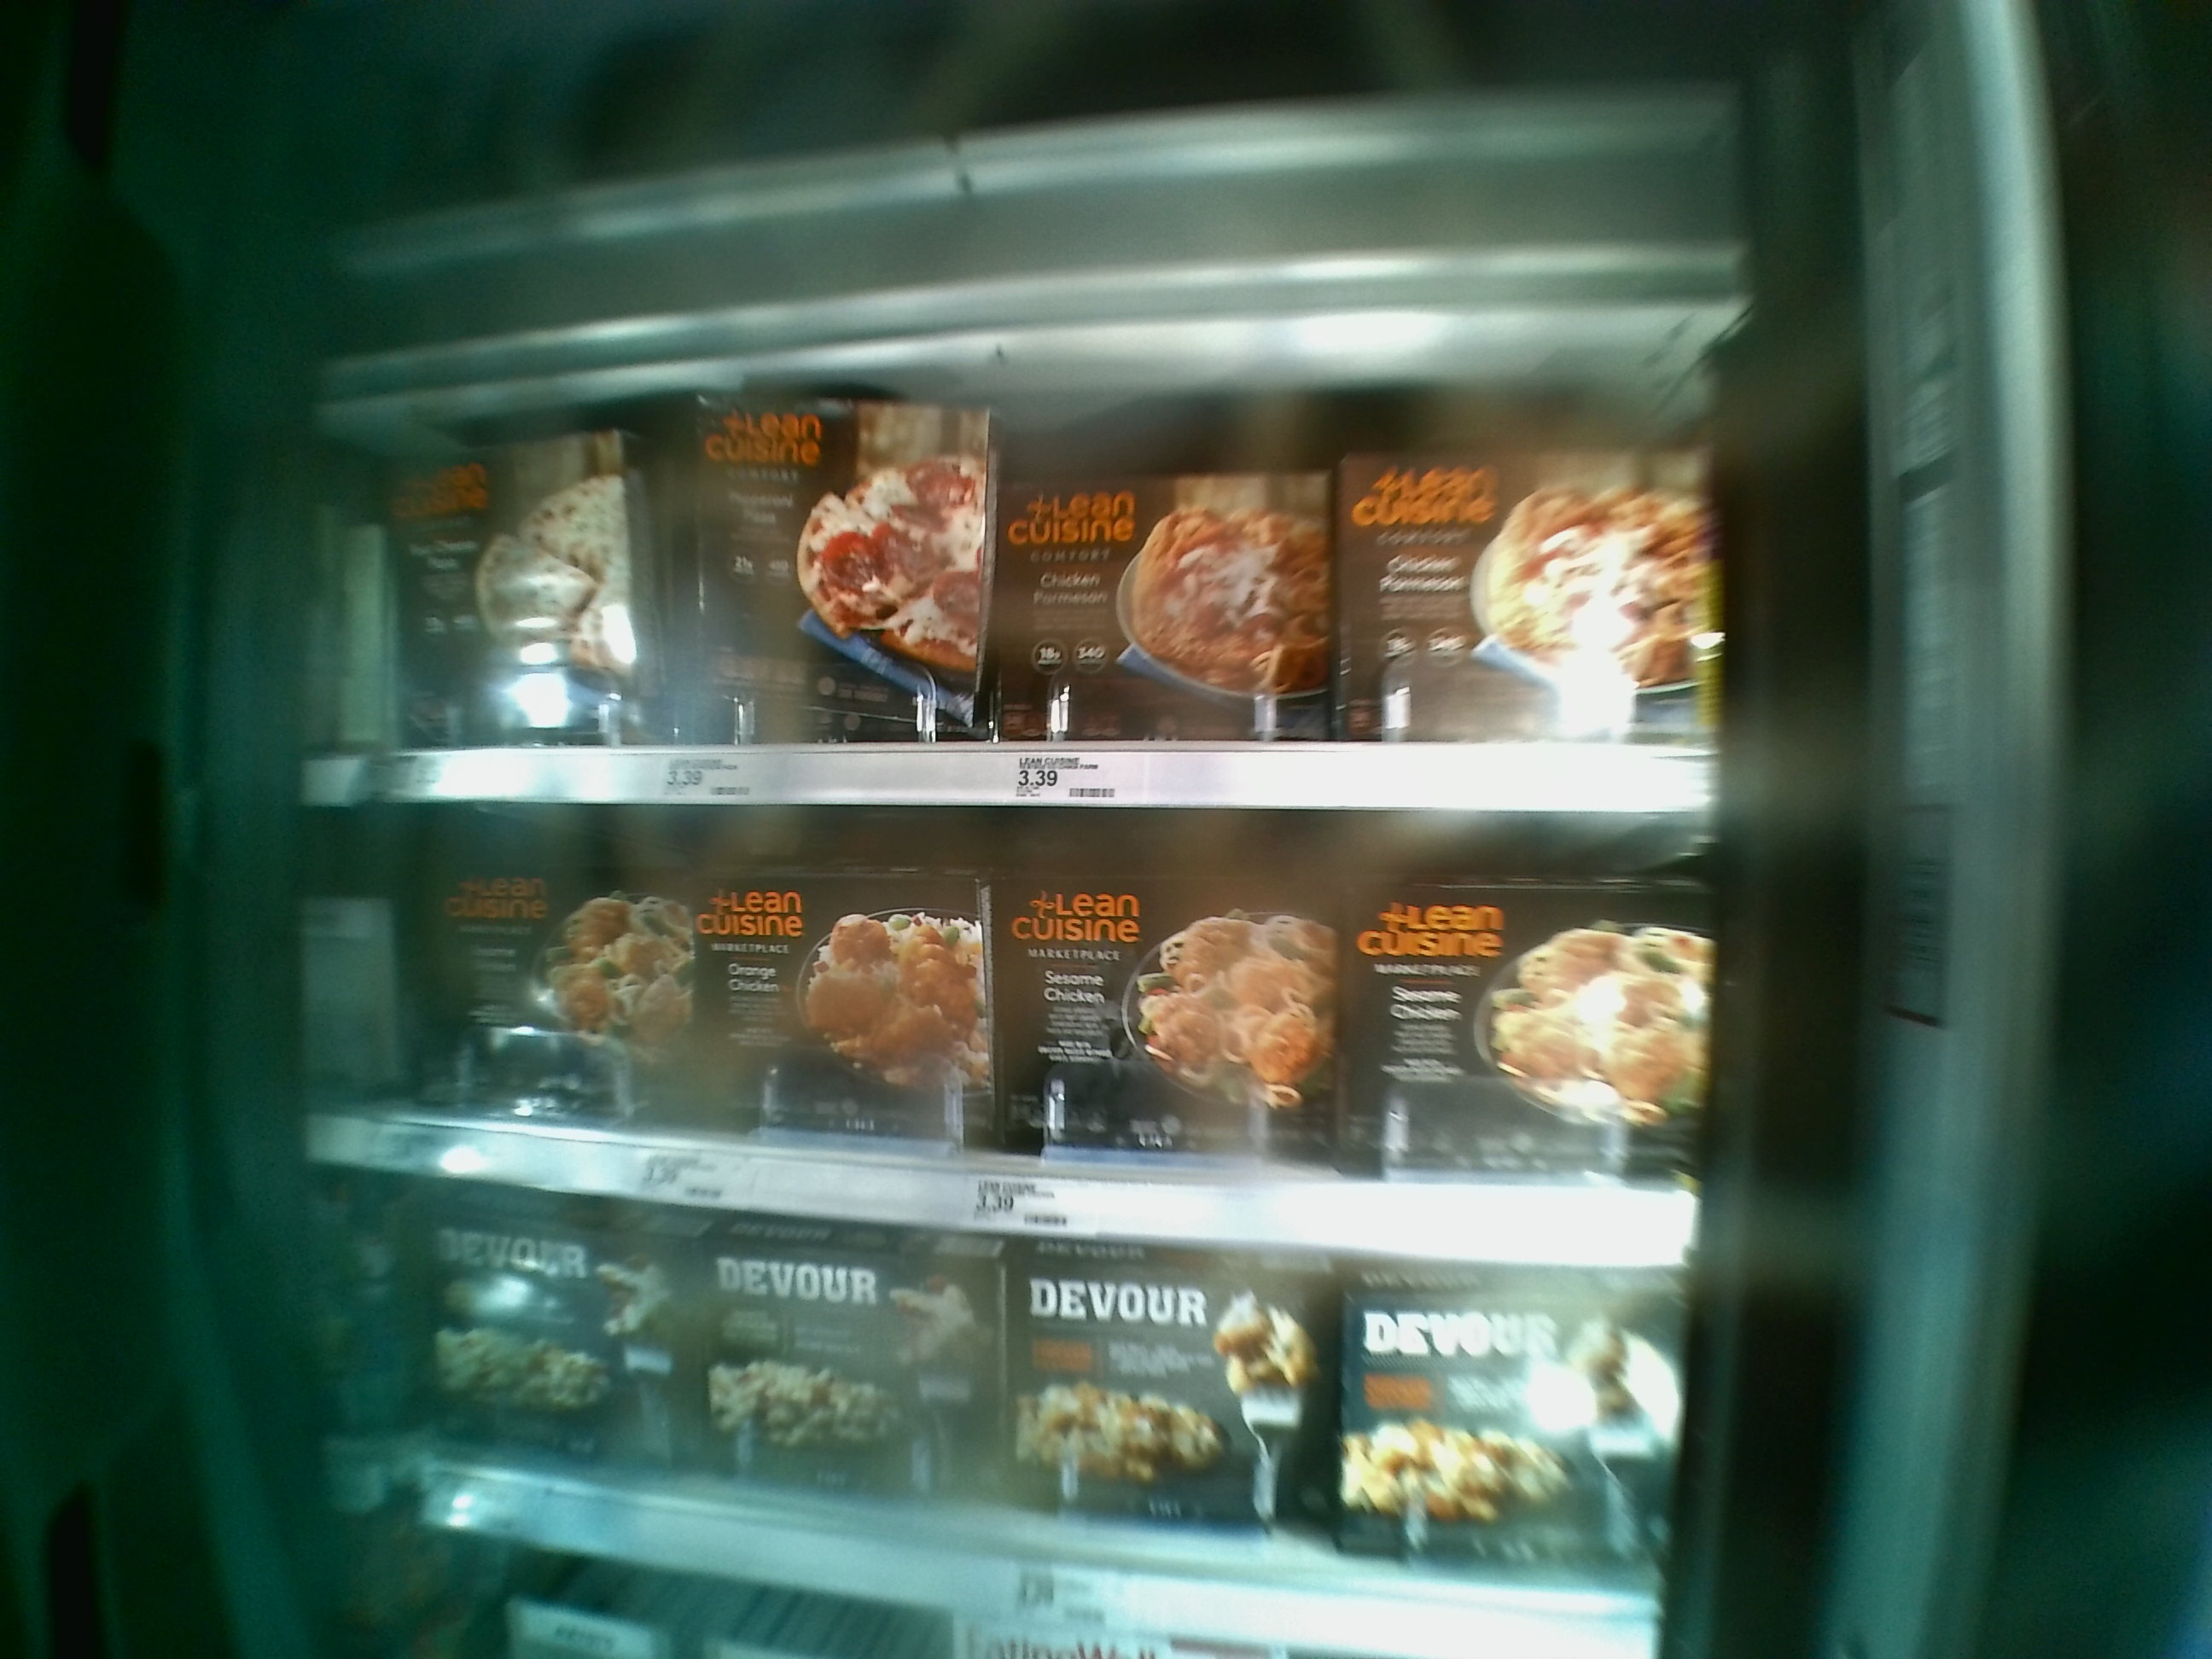Shelf: (315, 803, 1700, 1270), (310, 362, 1714, 812)
